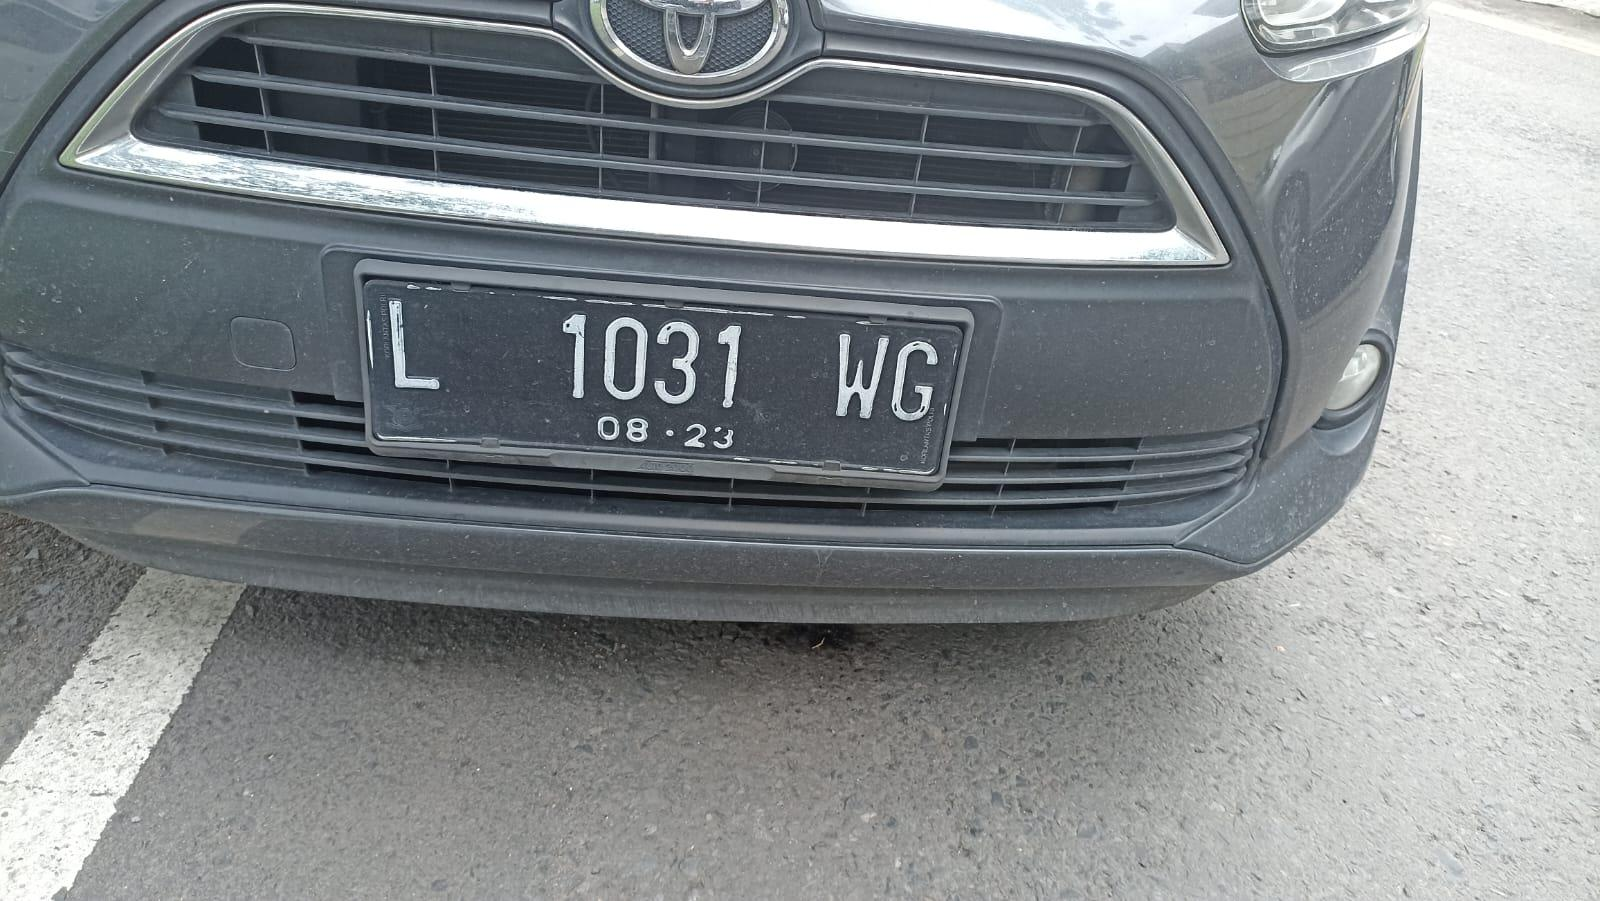plat: (363, 280, 966, 485)
